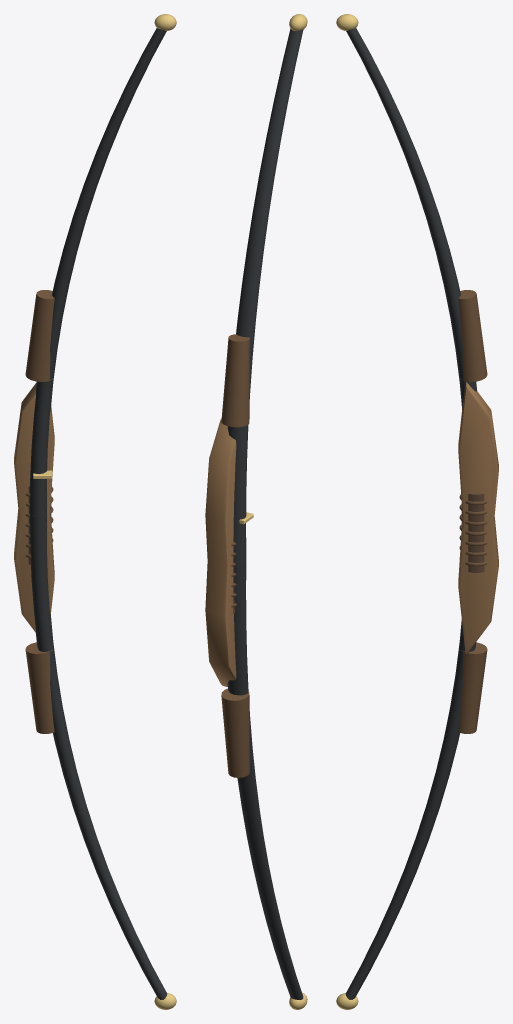
Rendered from bow.glb.
The picture shows the model from 3 angles, left to right: view 1: azimuth 90°, elevation 25°; view 2: azimuth 150°, elevation 25°; view 3: azimuth 270°, elevation 25°; orthographic projection.
Parts seen in each view (by area): view 1: bow; view 2: bow; view 3: bow.
Boxes of the visible parts, left/top/right/bottom form: bow: left=14, top=14, right=176, bottom=1009; bow: left=205, top=14, right=307, bottom=1009; bow: left=336, top=14, right=498, bottom=1009.
Size of the model in its own units: 0.0534 by 1.46 by 0.2169.
